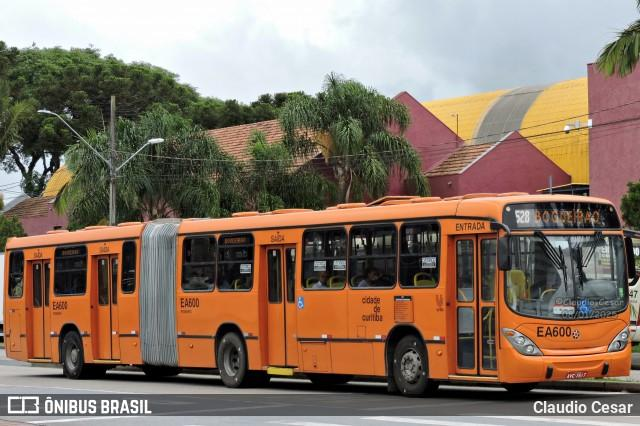BOQUEIRAO: (532, 207, 602, 227)
